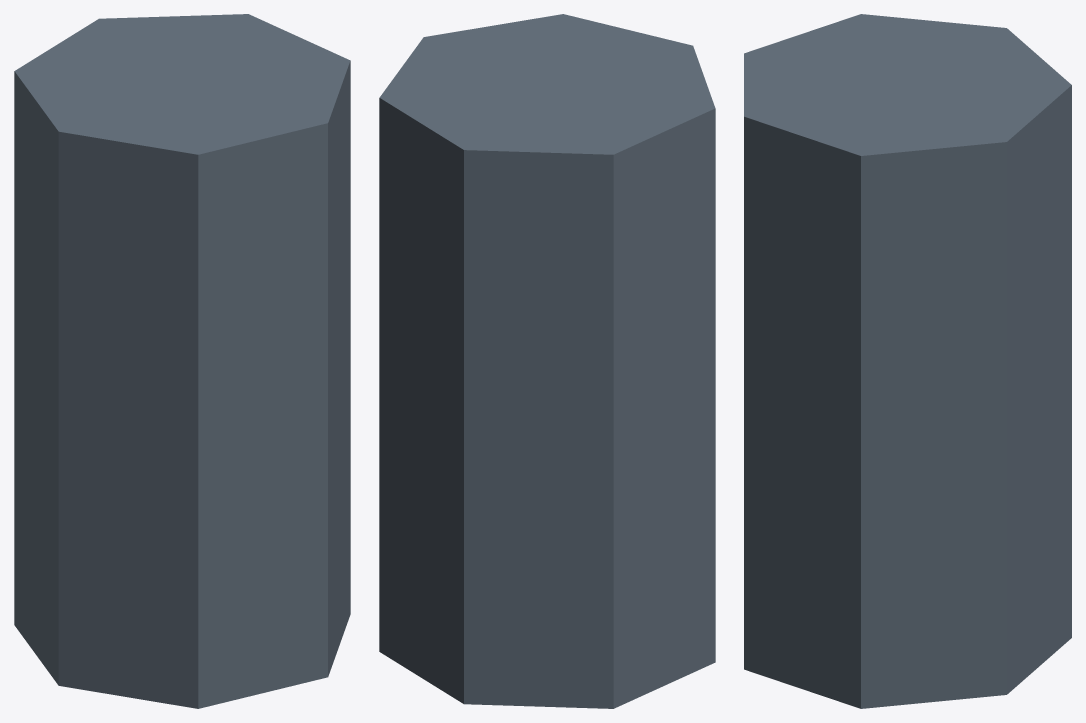
File: Column03.fbx
3 views of the same model, side by side, from view 1: azimuth 30°, elevation 25°; view 2: azimuth 150°, elevation 25°; view 3: azimuth 270°, elevation 25° (orthographic).
Parts seen in each view (by area): view 1: Column03; view 2: Column03; view 3: Column03.
Boxes of the visible parts, x1=… form: Column03: x1=14, y1=14, x2=350, y2=708; Column03: x1=379, y1=14, x2=715, y2=708; Column03: x1=744, y1=14, x2=1071, y2=708.
Bounding box in the file's own units: 25.35 × 46 × 24.71.
1 material, 1 textured.
